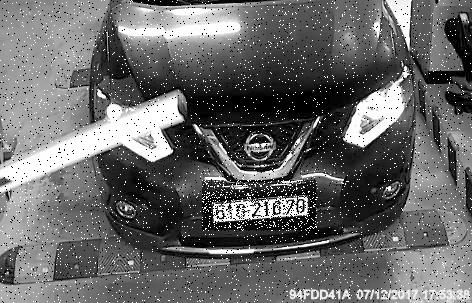License-plate: (204, 182, 319, 233)
